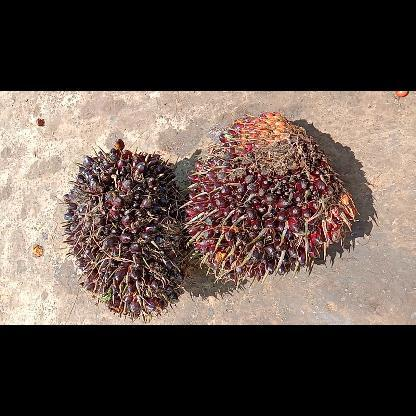TBS mentah: (185, 111, 359, 283), (62, 140, 186, 316)
